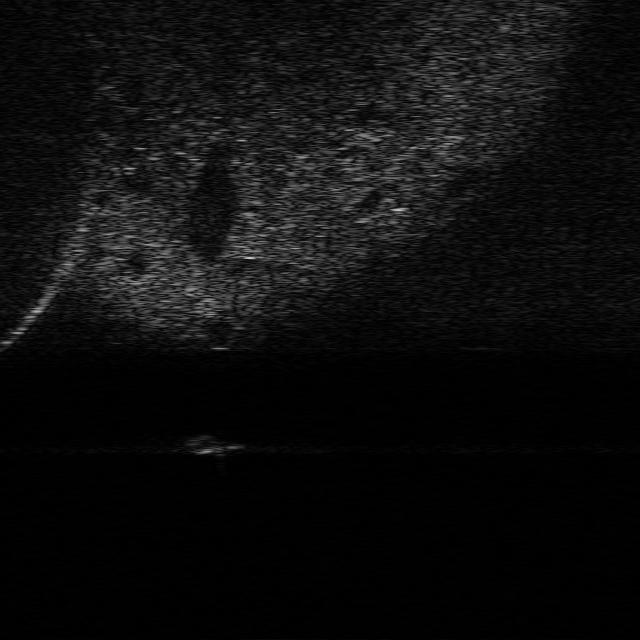cube: (180, 432, 239, 456)
